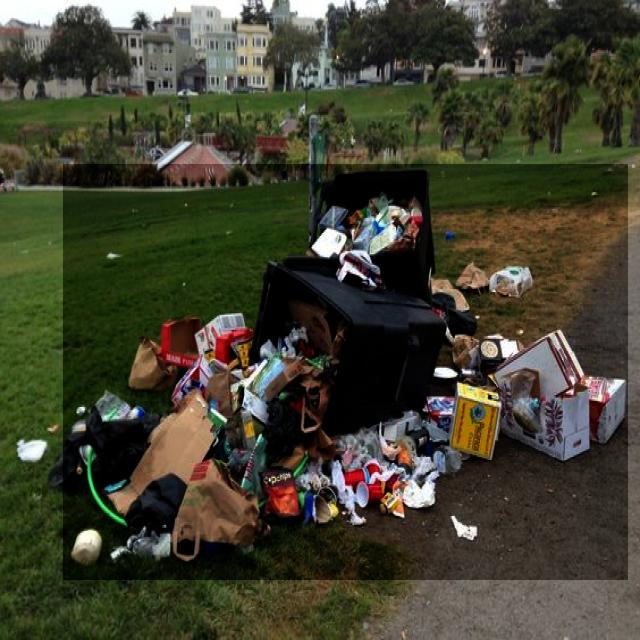dumping: (63, 164, 628, 580)
